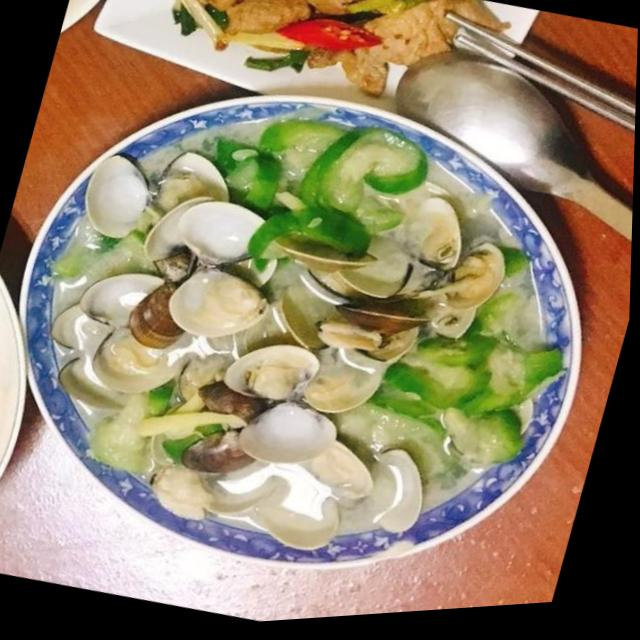Wet: (27, 95, 585, 592)
